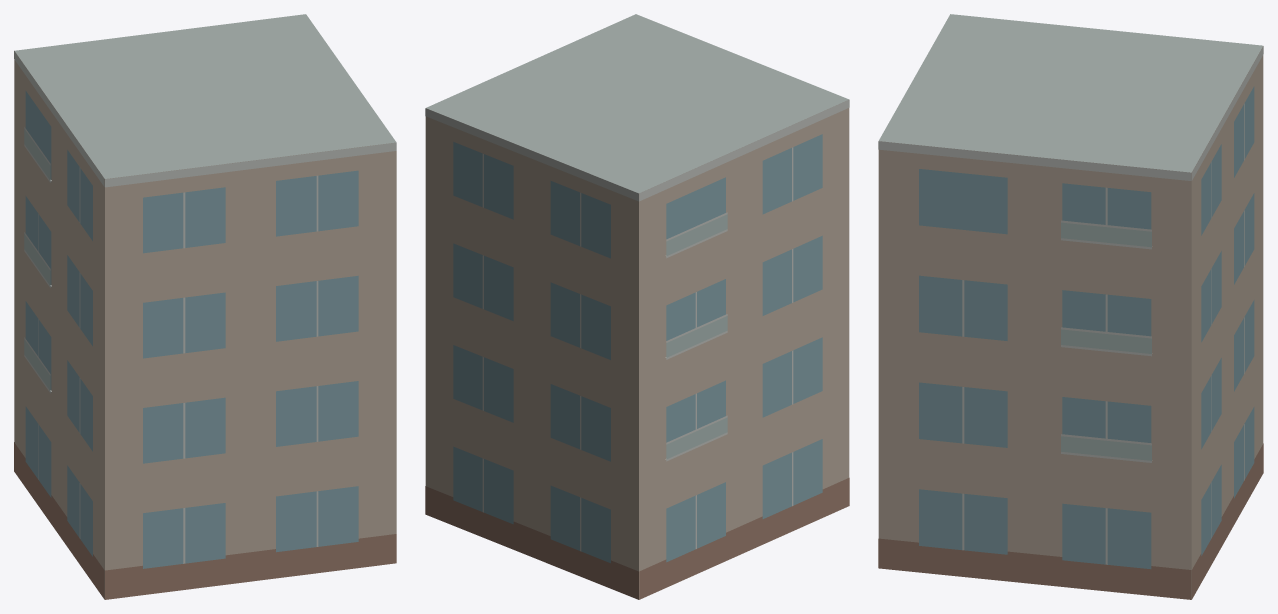
Rendered from residential-93795447-241d-449c-a92f-5f0994f0f0b1.glb.
3 views of the same model, side by side, from view 1: azimuth 30°, elevation 25°; view 2: azimuth 150°, elevation 25°; view 3: azimuth 270°, elevation 25° (orthographic). The views are drawn at different scales.
Parts seen in each view (by area): view 1: residential-93795447-241d-449c-a92f-5f0994f0f0b1.tmp; view 2: residential-93795447-241d-449c-a92f-5f0994f0f0b1.tmp; view 3: residential-93795447-241d-449c-a92f-5f0994f0f0b1.tmp.
Boxes of the visible parts, <box> form: residential-93795447-241d-449c-a92f-5f0994f0f0b1.tmp: <box>14,14,396,599</box>; residential-93795447-241d-449c-a92f-5f0994f0f0b1.tmp: <box>425,14,849,599</box>; residential-93795447-241d-449c-a92f-5f0994f0f0b1.tmp: <box>878,14,1263,599</box>.
Size of the model in its own units: 9.72 by 12.2 by 9.97.
